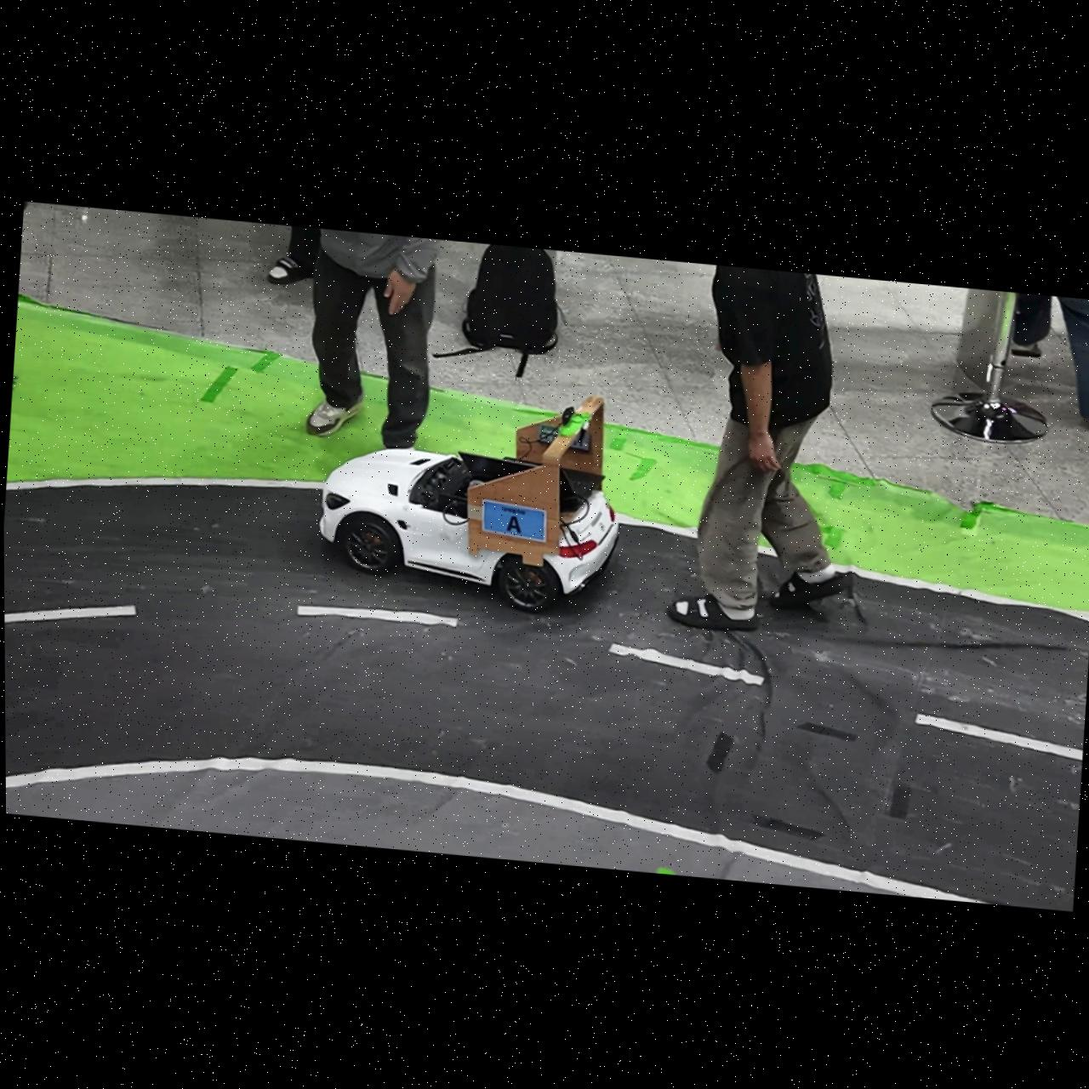broken_line: (915, 713, 1082, 761), (608, 643, 765, 686), (297, 605, 459, 628), (5, 605, 137, 623)
